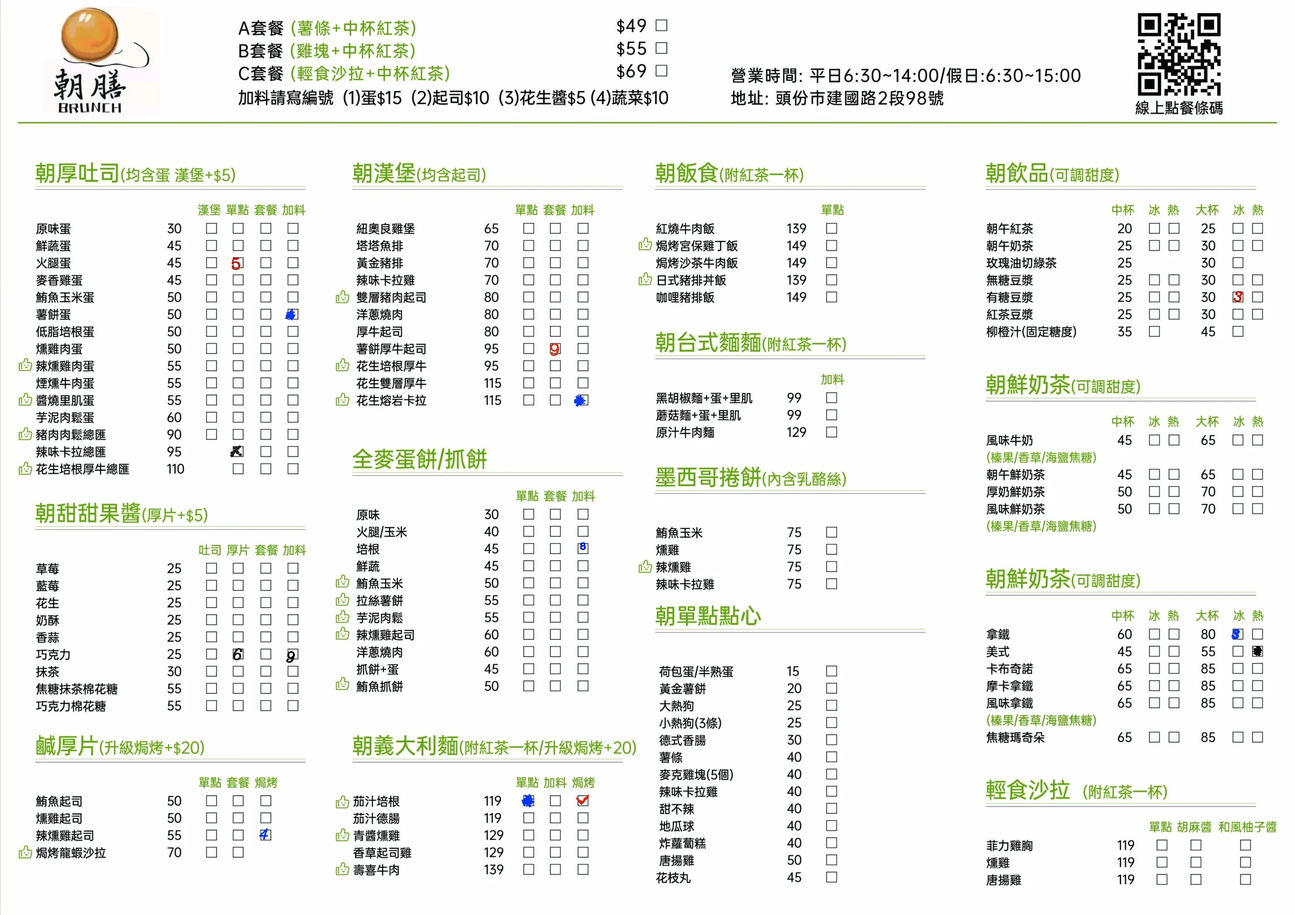marked_circle: (523, 796, 534, 806), (576, 395, 587, 405), (1252, 647, 1263, 657), (286, 309, 297, 319)
marked_number_3: (1232, 629, 1243, 639), (1232, 292, 1243, 302)
marked_number_4: (259, 829, 270, 839)
marked_number_5: (231, 257, 242, 267)
marked_number_6: (231, 650, 242, 660)
marked_number_8: (576, 542, 587, 553)
marked_number_9: (286, 650, 297, 660), (549, 343, 560, 353)
marked_tick: (578, 795, 589, 805)
marked_x: (231, 447, 242, 457)
